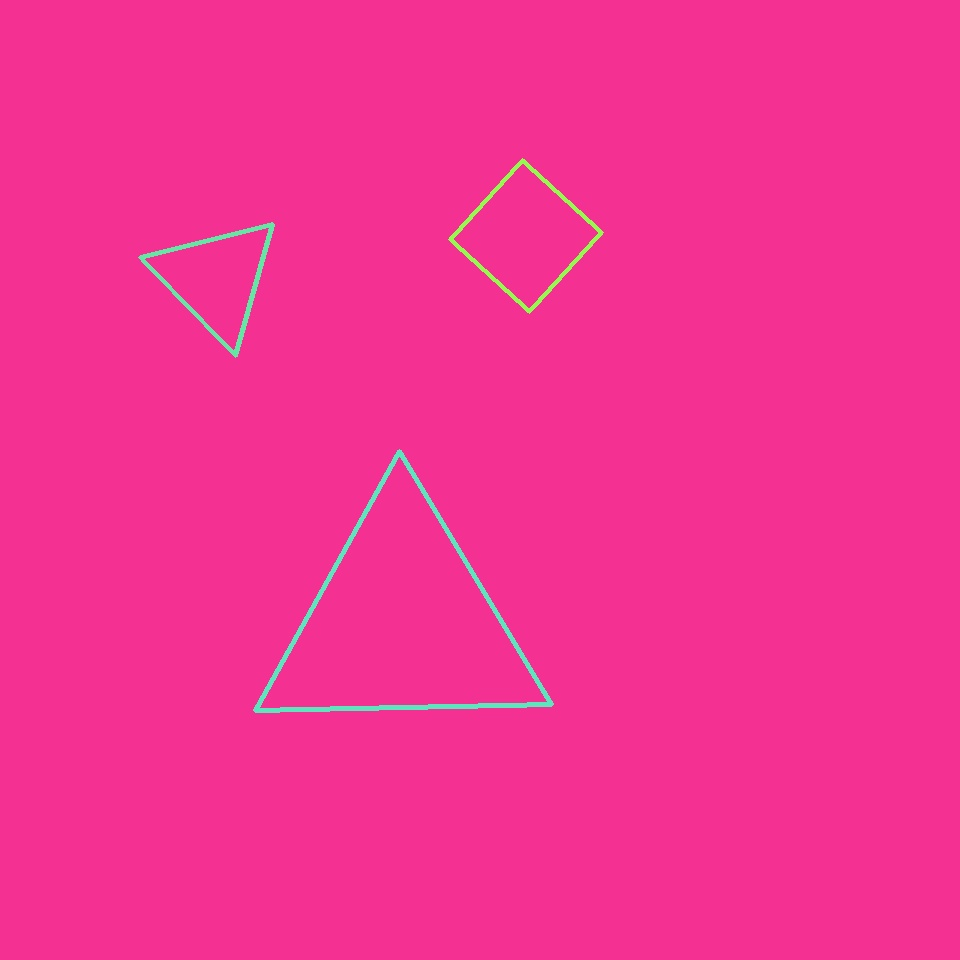circle: (254, 493, 550, 752), (150, 214, 282, 344)
square: (451, 160, 602, 312)
